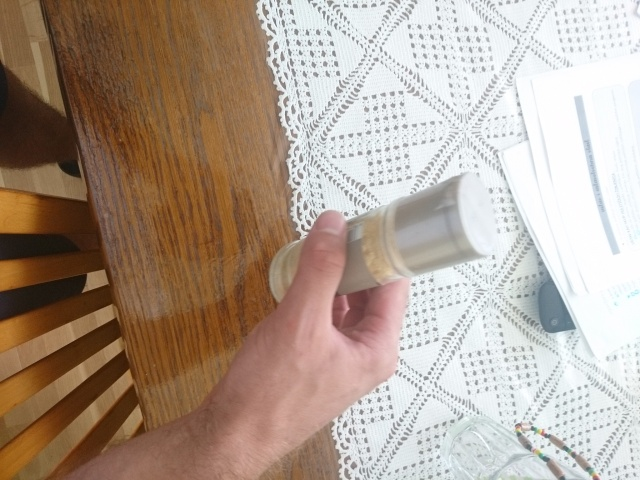Kotanyi Garlic Granules 70g: (263, 169, 501, 310)
